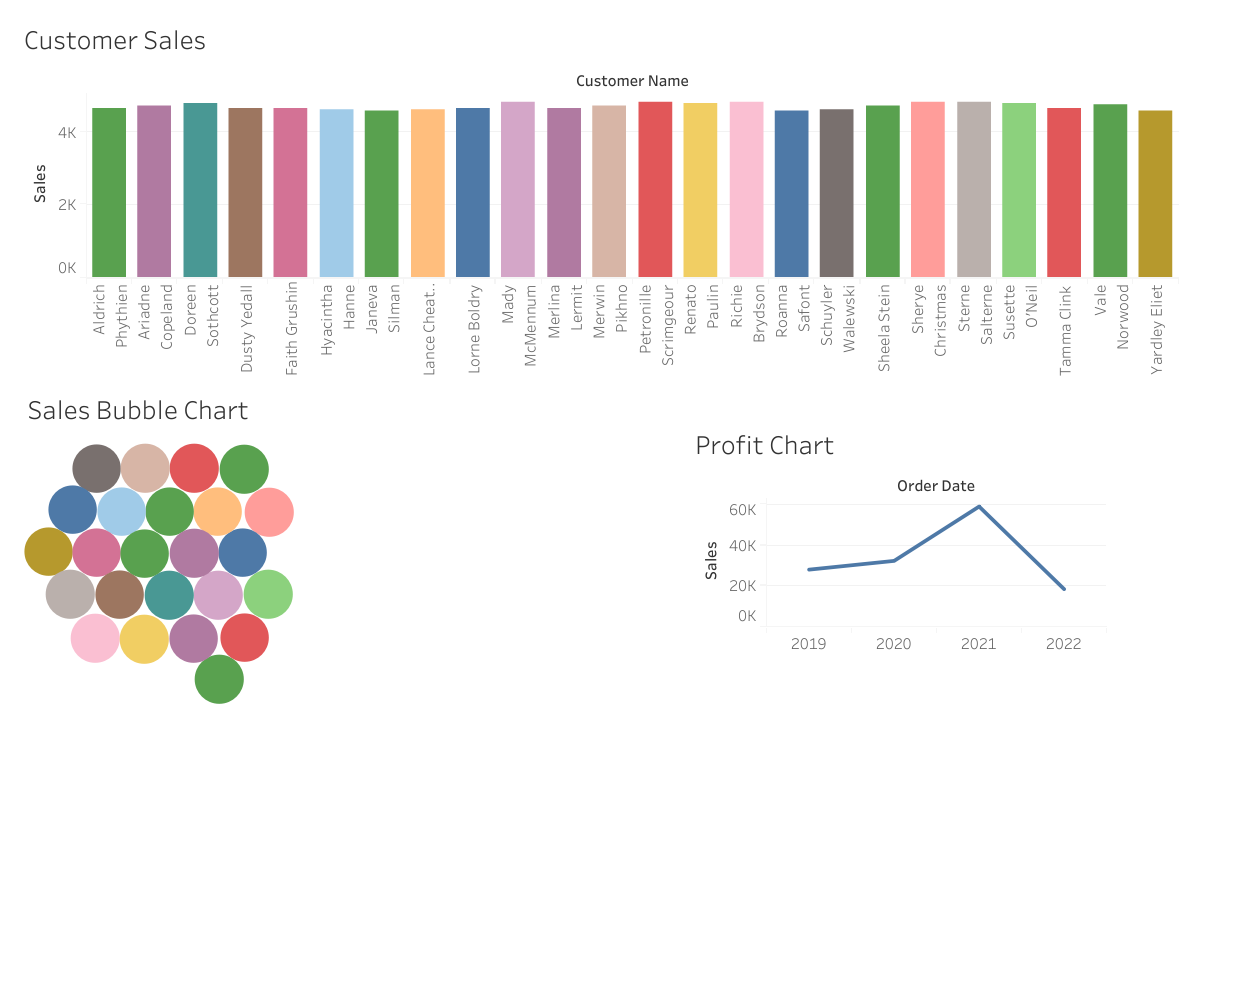

The dashboard page shown, as its layout file describes it:
{"tool":"tableau","page":{"name":"Dashboard 1","canvas":[1000,800],"ordinal":0},"visuals":[{"type":"worksheet","title":"Sheet 1","mark":"Bar","rows":["Sales"],"cols":["Customer Name"],"box":[15,11,928,291]},{"type":"worksheet","title":"Sheet 3","mark":"Circle","box":[18,307,492,260]},{"type":"legend","title":"Sheet 3","param":"[federated.0v9ot2j1bkkgqm15xdo1z191qs0r].[sum:Sales:qk]","box":[536,332,160,188]},{"type":"worksheet","title":"Sheet 2","mark":"Automatic","rows":["Sales"],"cols":["Order Date"],"box":[552,335,333,188]}]}

Visuals, with their boxes in screenshot pixels (x1, y1, x2, y2), scaled from the page's 1000x800 canvas onto the 1249x999 screenshot:
"Sheet 1" worksheet (Bar marks): Rect(19, 14, 1178, 377)
"Sheet 3" worksheet (Circle marks): Rect(22, 383, 637, 708)
"Sheet 3" legend: Rect(669, 415, 869, 649)
"Sheet 2" worksheet: Rect(689, 418, 1105, 653)
